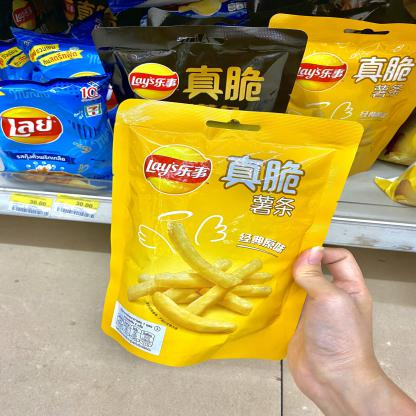potatochip: (96, 93, 368, 371), (87, 17, 311, 216), (242, 8, 416, 194), (0, 69, 128, 210), (0, 16, 122, 141)
